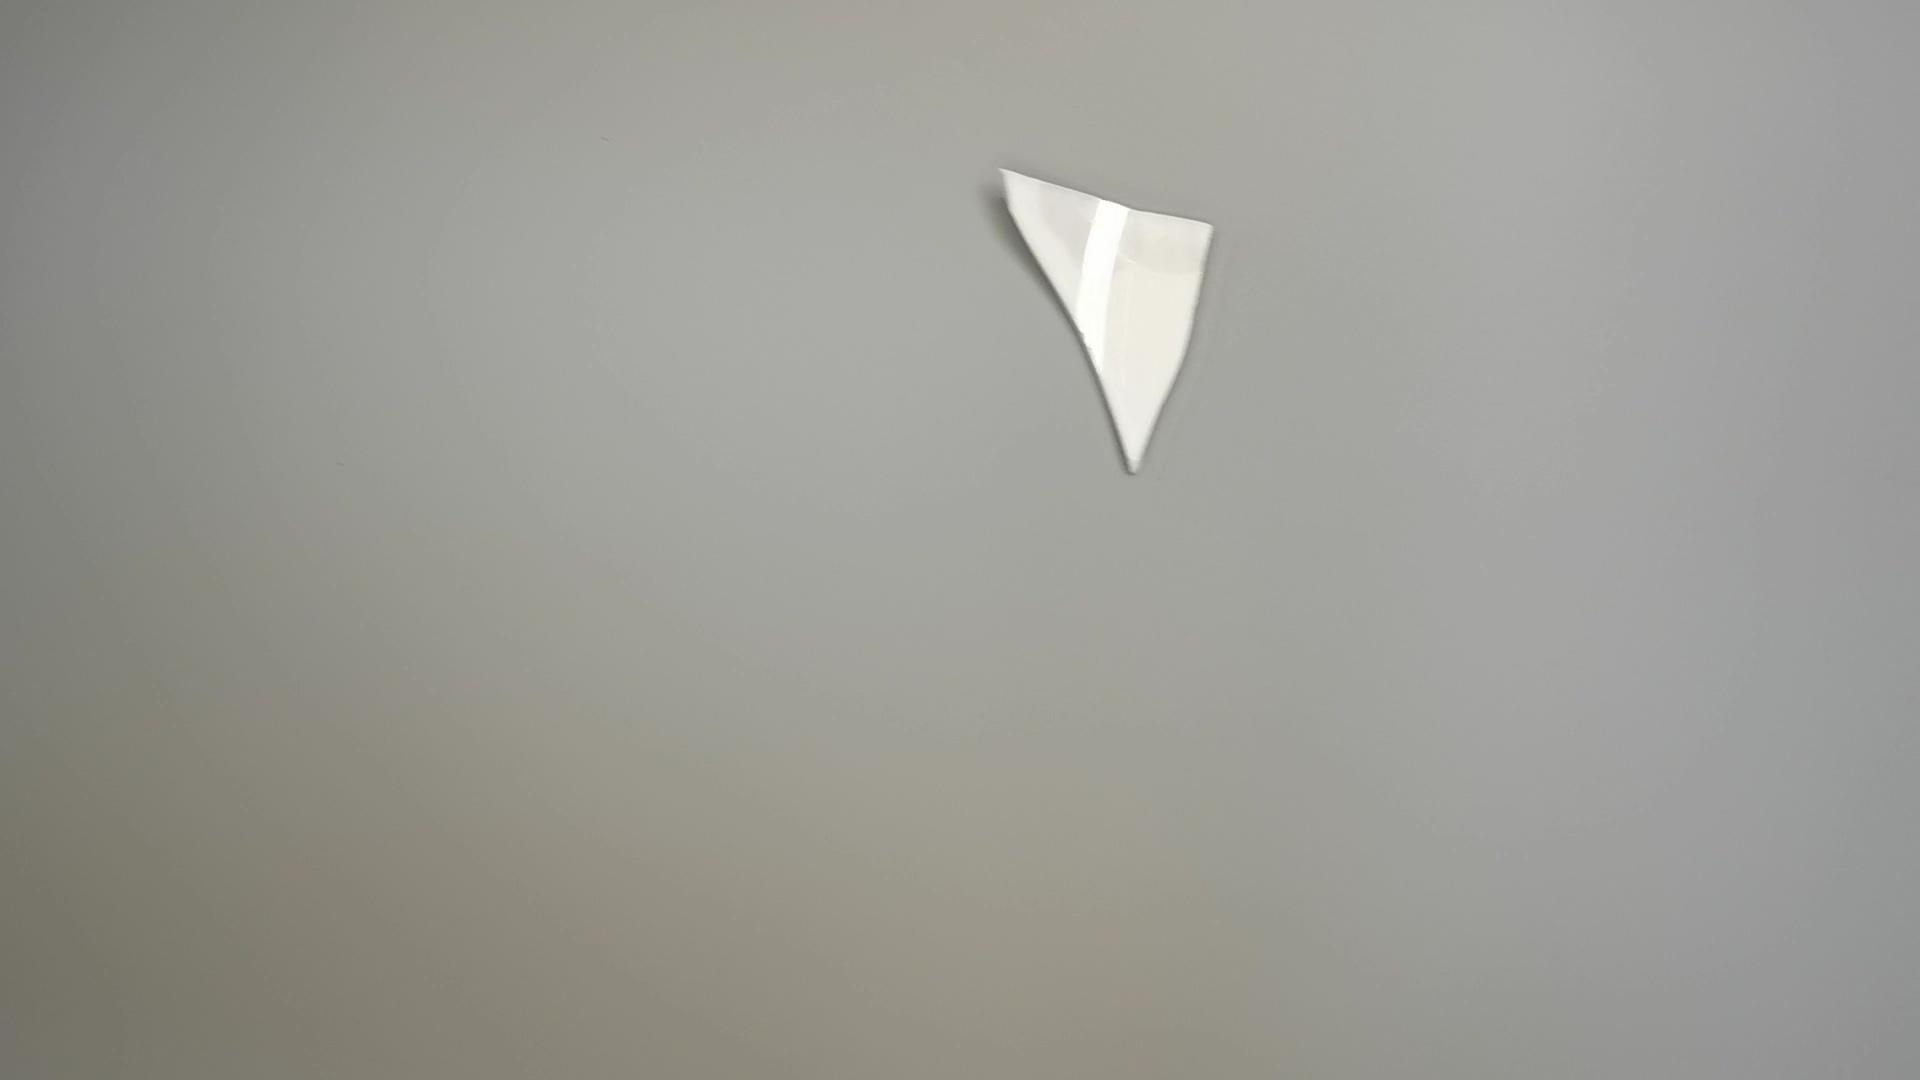ceramic: (993, 165, 1221, 479)
